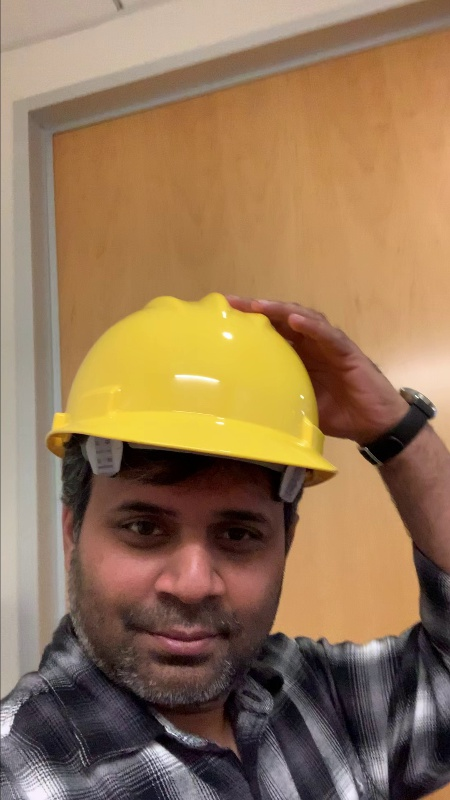helmet: (63, 302, 309, 459)
